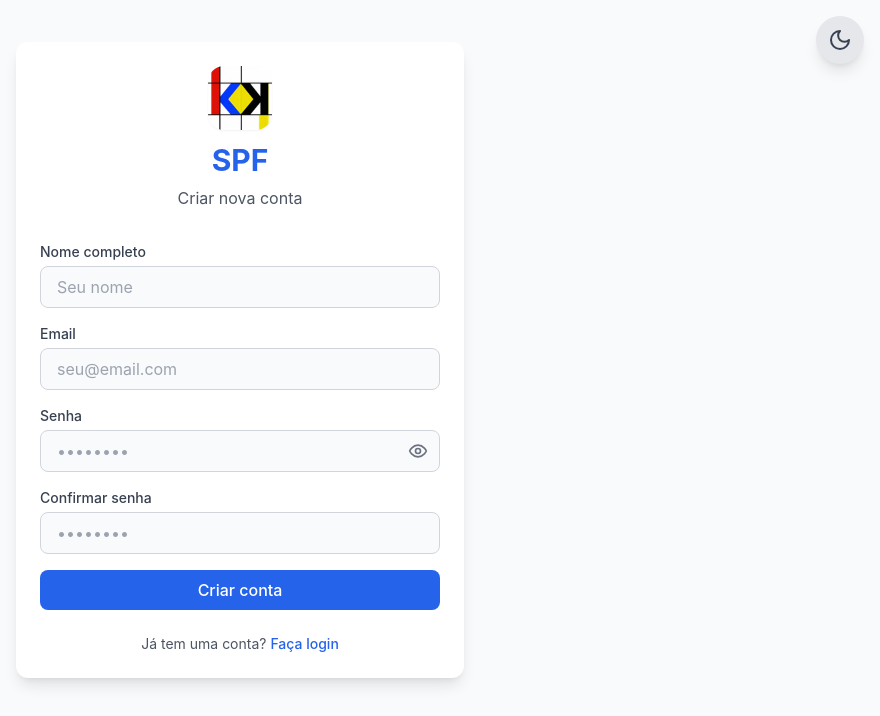
Test: Tela de registro › acusa senha curta antes mesmo de checar a confirmação
Type "Bruno Teste" into the field with placeholder "Seu nome".
click(240, 287); type("Bruno Teste")  # box [40, 266, 440, 308]
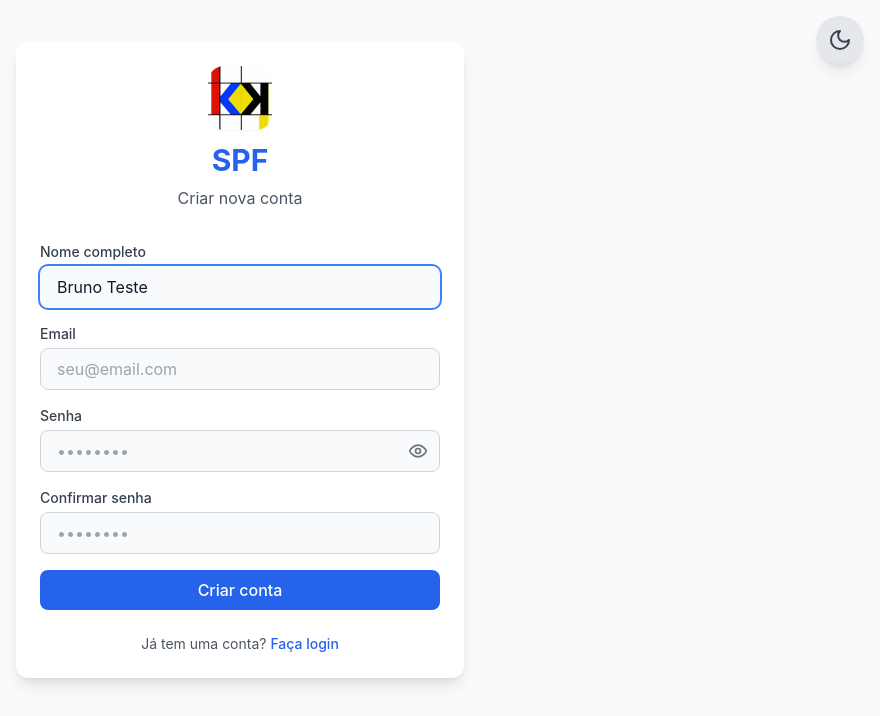
Type "bruno.teste@example.com" into the field with placeholder "seu@email.com".
click(240, 369); type("bruno.teste@example.com")  # box [40, 348, 440, 390]
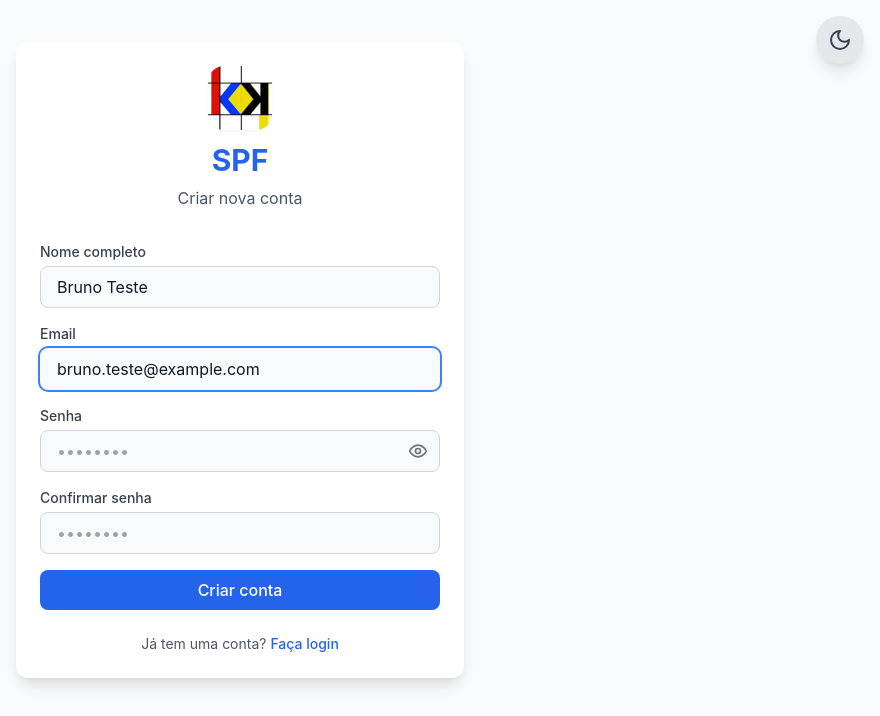
Type "123" into the 1st password field with placeholder "••••••••".
click(240, 451); type("123")  # box [40, 430, 440, 472]
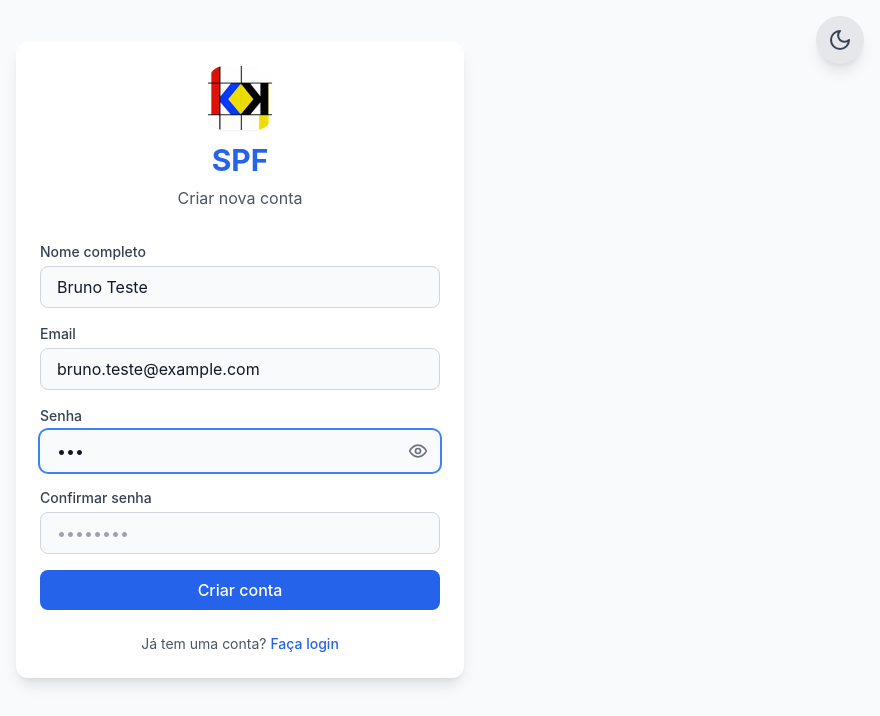
Type "123" into the password field with placeholder "••••••••".
click(240, 533); type("123")  # box [40, 512, 440, 554]
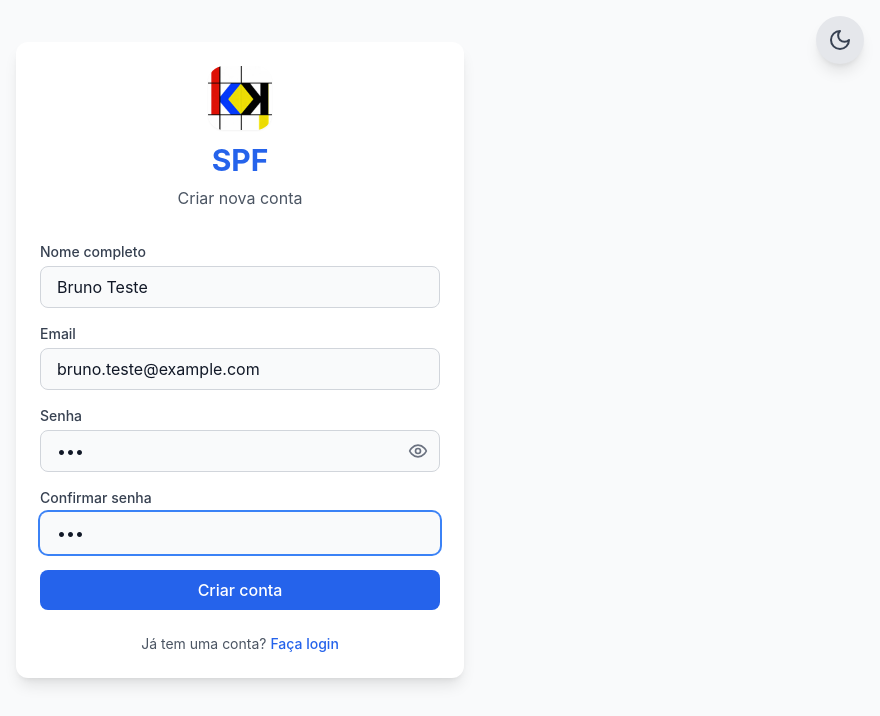
Click the submit button.
click(240, 590)  # box [40, 570, 440, 610]
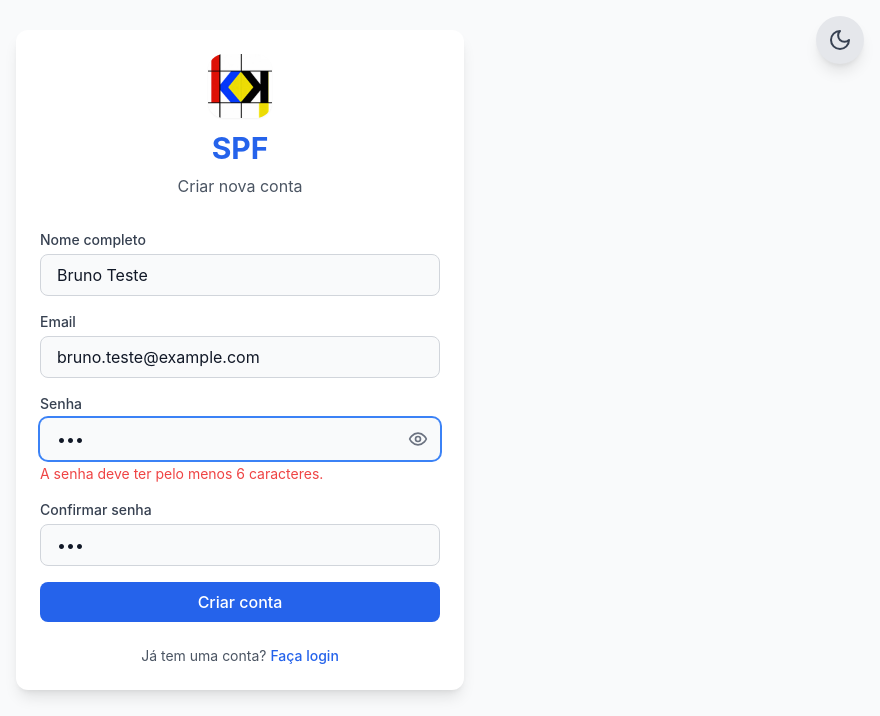
Check: the text "A senha deve ter pelo menos 6 caracteres." is shown, box [40, 465, 323, 482]
